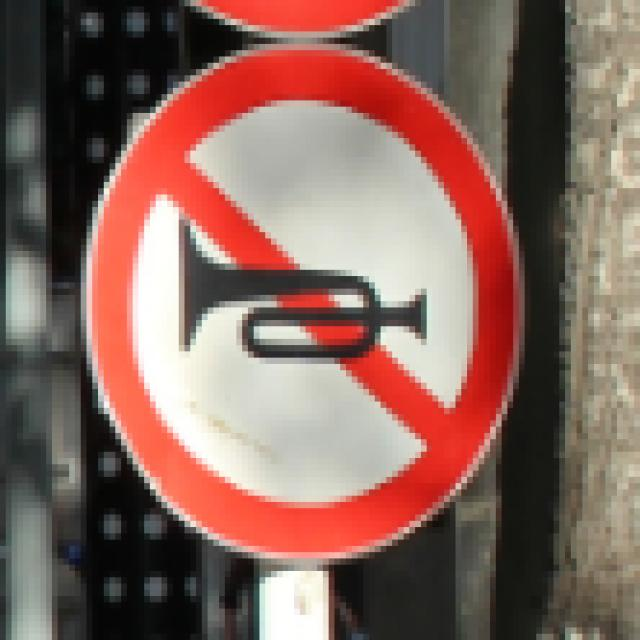No Horn: (85, 45, 524, 562)
